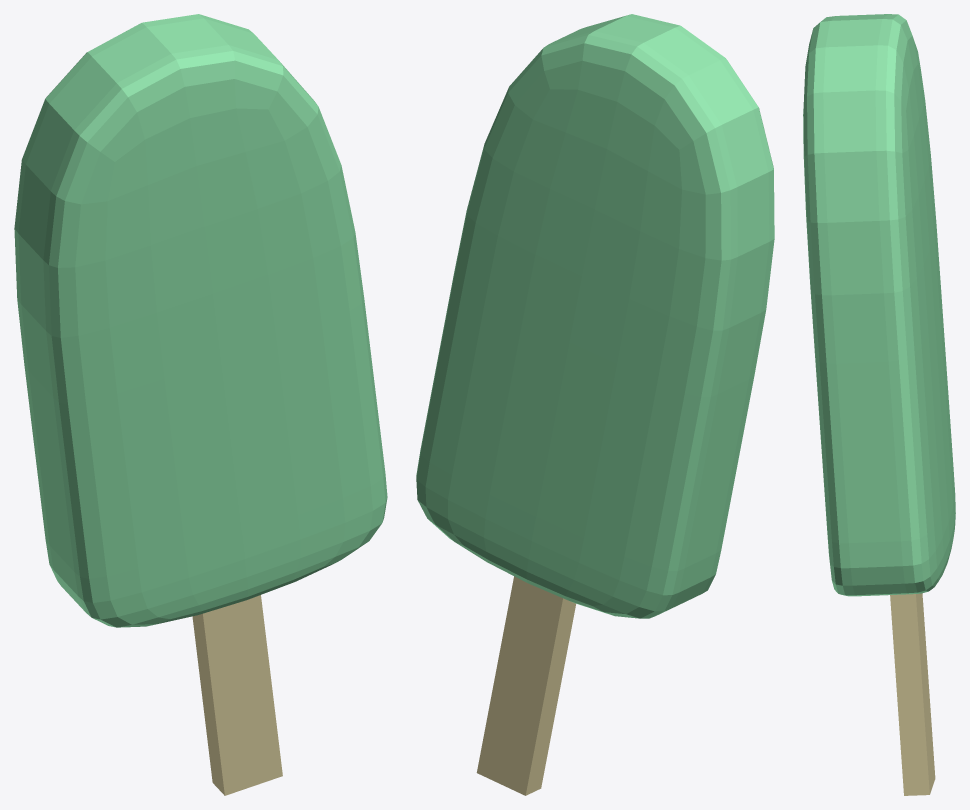
File: icecream3.glb
The picture shows the model from 3 angles, left to right: view 1: azimuth 30°, elevation 25°; view 2: azimuth 150°, elevation 25°; view 3: azimuth 270°, elevation 25°; orthographic projection. The views are drawn at different scales.
Parts seen in each view (by area): view 1: Cube.349; view 2: Cube.349; view 3: Cube.349.
Part boxes in pixels (x1,y1,x2,y2): Cube.349: (14,14,387,795); Cube.349: (416,14,774,795); Cube.349: (803,14,955,795).
Size of the model in its own units: 1.66 by 3.72 by 0.7157.
